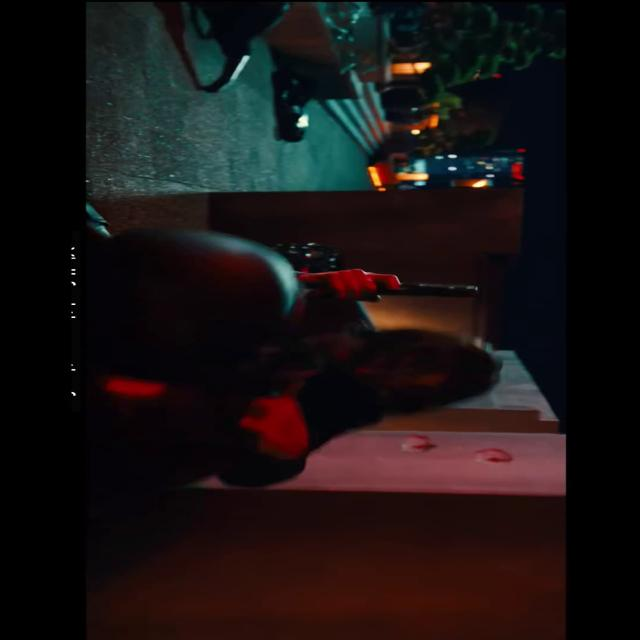weapons: (319, 260, 505, 314)
